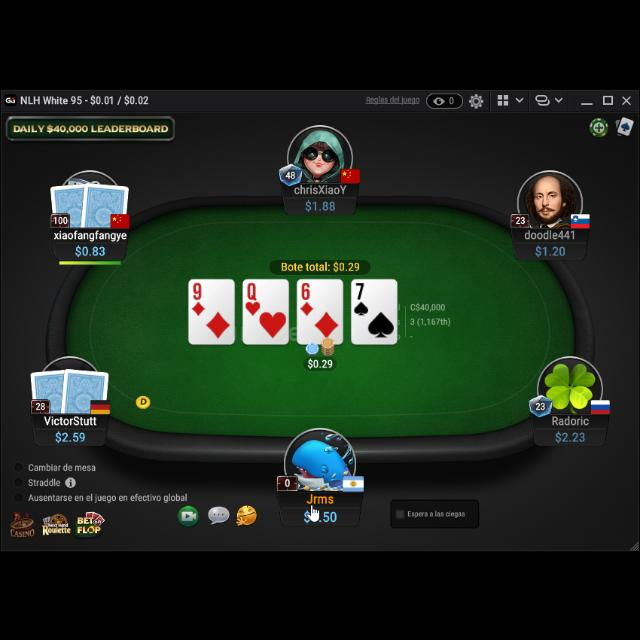6d: (299, 279, 315, 315)
7s: (352, 278, 370, 316)
9d: (190, 279, 206, 315)
Qh: (244, 279, 262, 315)
bet_text: (307, 355, 333, 367)
card_back: (80, 178, 130, 228), (61, 363, 111, 413), (48, 178, 92, 228), (30, 364, 70, 412)
dealer: (134, 390, 152, 408)
pot_text: (280, 259, 362, 271)
stack_text: (303, 504, 339, 522), (74, 241, 106, 257), (304, 196, 336, 210), (554, 426, 586, 440), (54, 427, 86, 441), (534, 241, 566, 255)
